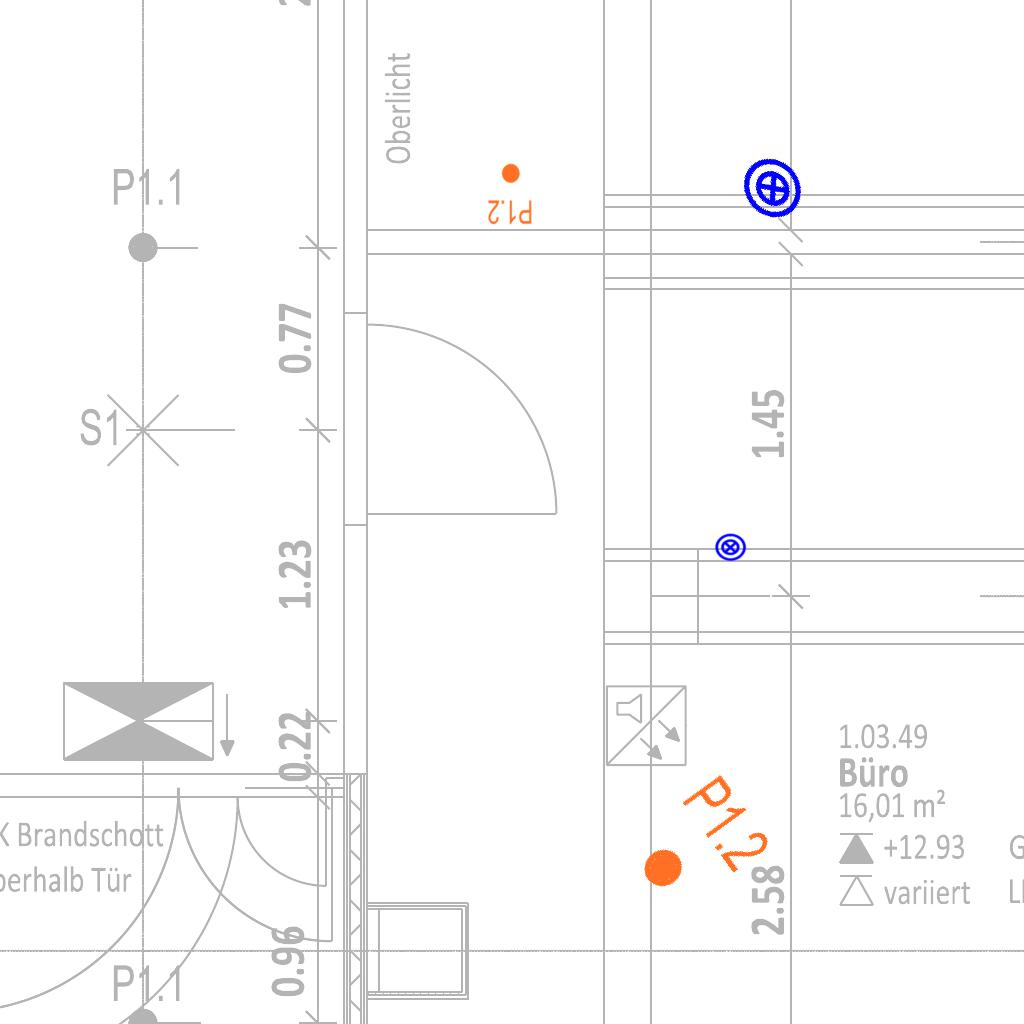Downlight_LED_Einbauleuchten_Flur: (618, 769, 777, 921), (487, 162, 533, 226)
Taster_beleuchtet: (726, 141, 820, 235), (714, 531, 747, 564)
